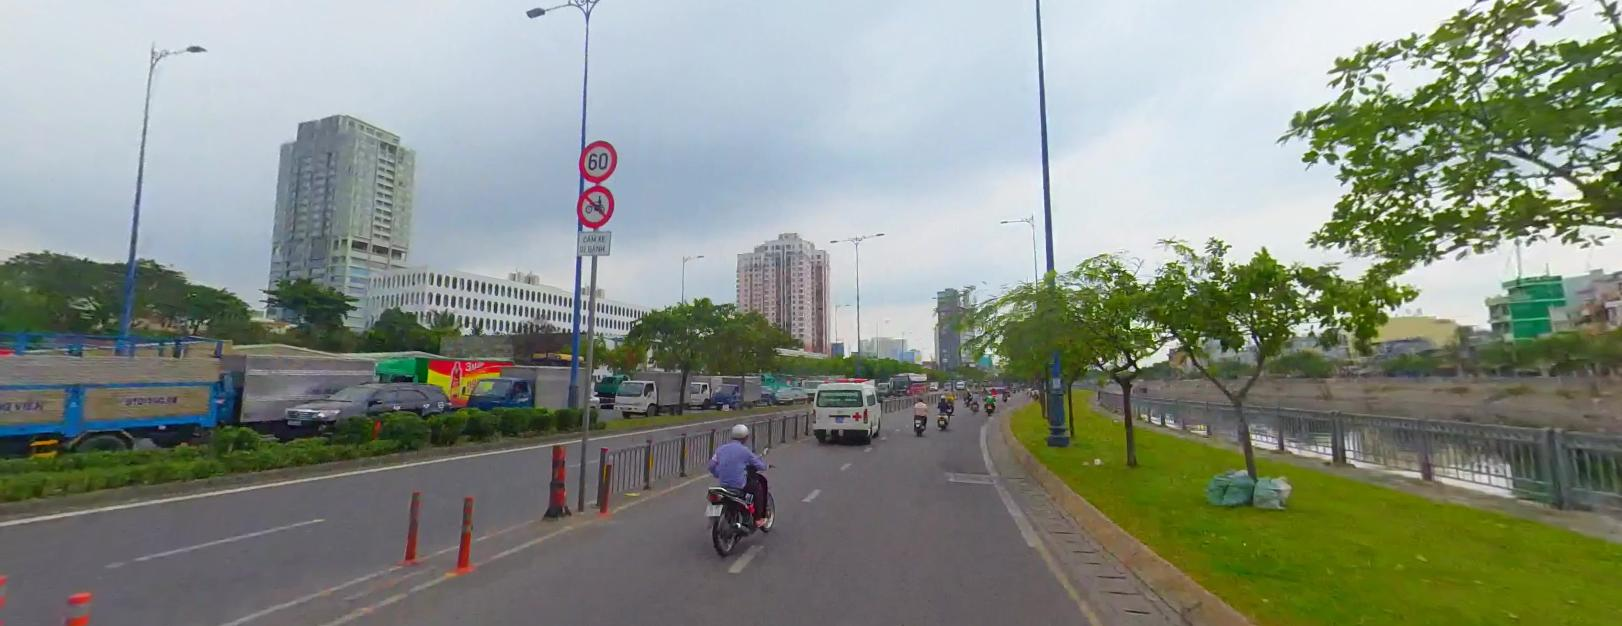Cam con lai: (576, 184, 614, 226)
Gioi han toc do: (578, 139, 615, 181)
